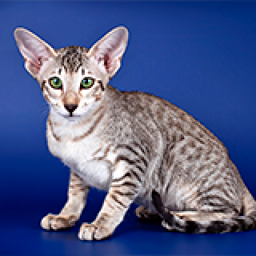cat: (11, 22, 253, 244)
